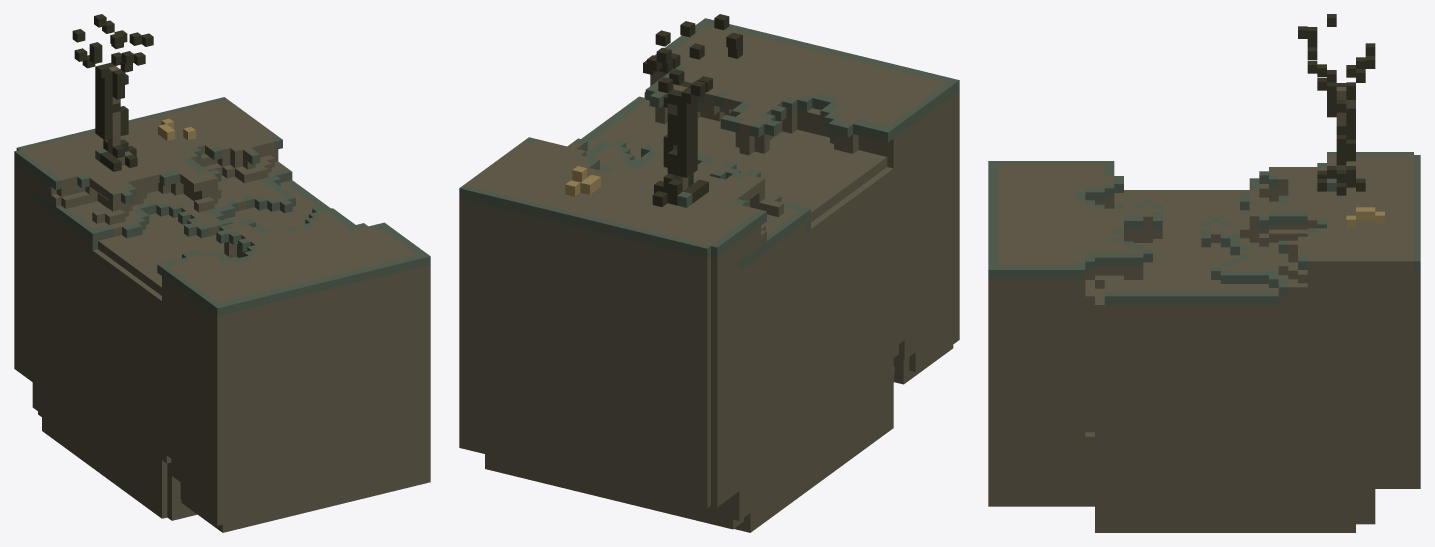
The model's file is cliff_rock_08.glb.
The picture shows the model from 3 angles, left to right: view 1: azimuth 30°, elevation 25°; view 2: azimuth 150°, elevation 25°; view 3: azimuth 270°, elevation 25°; orthographic projection. The views are drawn at different scales.
Parts seen in each view (by area): view 1: cliff_rock_08; view 2: cliff_rock_08; view 3: cliff_rock_08.
Boxes of the visible parts, box(x1,y1,x2,y2) form: cliff_rock_08: box(14, 14, 430, 532); cliff_rock_08: box(459, 14, 959, 532); cliff_rock_08: box(988, 14, 1420, 532).
Bounding box in the file's own units: 4 × 7.2 × 6.7.
Materials: 1 (1 with a texture image).
